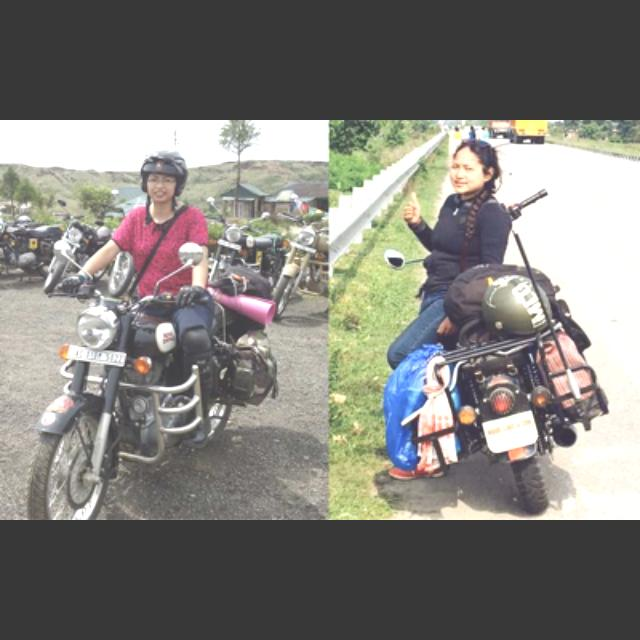With Helmet: (136, 143, 188, 210)
Without Helmet: (443, 134, 502, 193)
